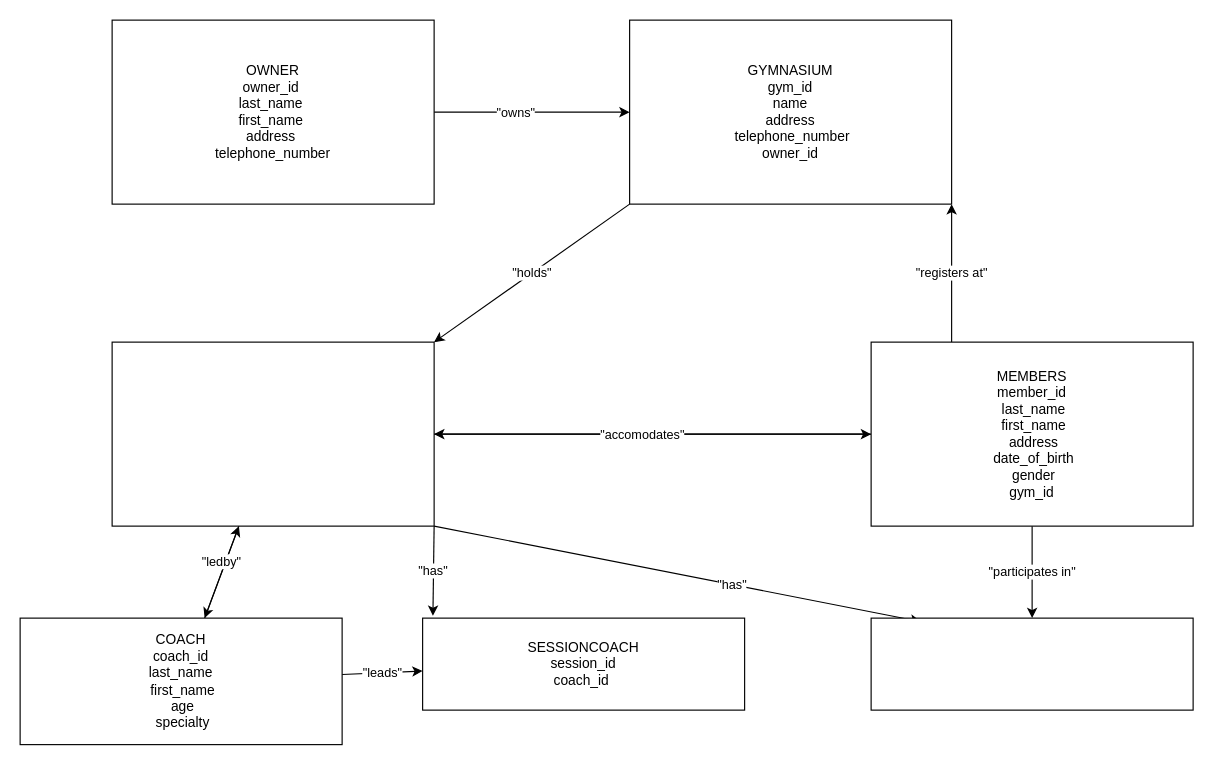
Some shapes in this 1213 by 765 pixel diagram are drawn without their labels. Here are the shapes that lost their labels. From the top down, the centre of each, then its label:
At point 272,433: "SESSIONS session_id sport_type schedule max_capacity gym_id".
At point 1031,663: "SESSIONMEMBER session_id member_id".
